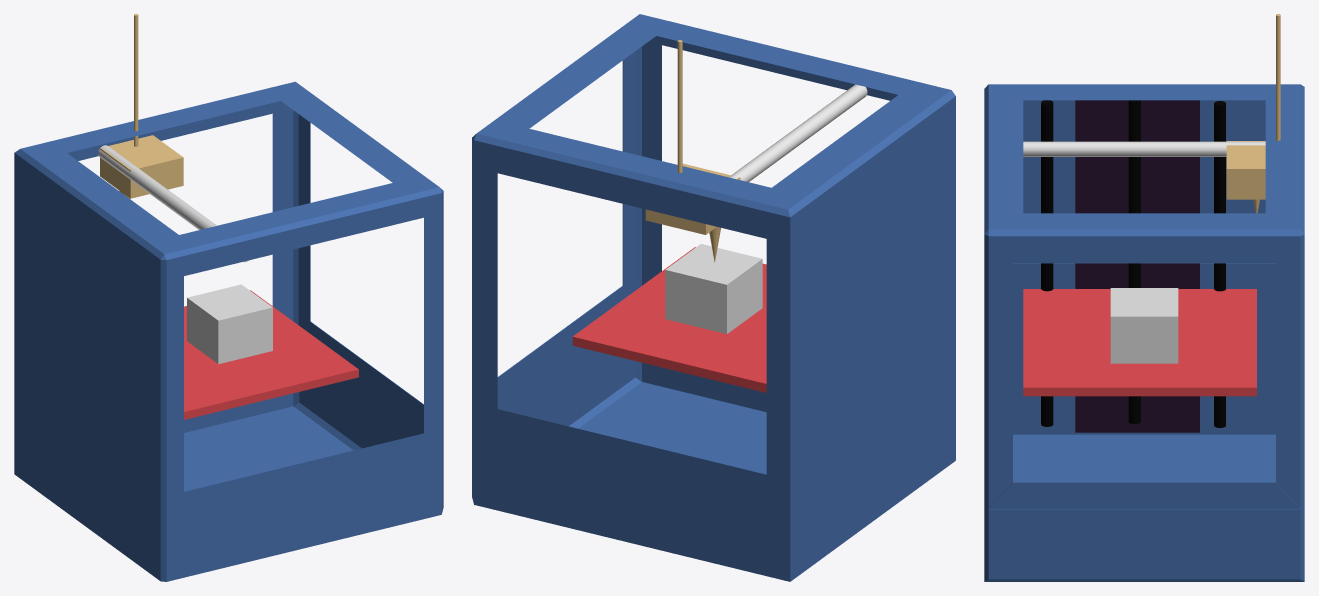
Rendered from 05.11редакт.fbx.
3 views of the same model, side by side, from view 1: azimuth 30°, elevation 25°; view 2: azimuth 150°, elevation 25°; view 3: azimuth 270°, elevation 25° (orthographic). The views are drawn at different scales.
Parts seen in each view (by area): view 1: Куб, Куб.001, Cube, Цилиндр.003, Цилиндр.005; view 2: Куб, Куб.001, Cube, Цилиндр.005, Цилиндр.003; view 3: Куб, Куб.001, Куб.002, Cube, Цилиндр.005, Цилиндр.003, Цилиндр, Цилиндр.001, Цилиндр.002.
Boxes of the visible parts, box(x1,y1,x2,y2) form: Куб: box(14, 81, 443, 581); Куб.001: box(184, 290, 358, 419); Cube: box(187, 284, 272, 364); Цилиндр.003: box(100, 14, 183, 198); Цилиндр.005: box(98, 145, 248, 262); Куб: box(472, 14, 955, 581); Куб.001: box(572, 247, 766, 392); Cube: box(665, 244, 762, 333); Цилиндр.005: box(729, 84, 867, 182); Цилиндр.003: box(645, 40, 740, 262); Куб: box(984, 84, 1304, 581); Куб.001: box(1023, 289, 1256, 396); Куб.002: box(1075, 100, 1199, 432); Cube: box(1110, 288, 1178, 363); Цилиндр.005: box(1023, 141, 1265, 156); Цилиндр.003: box(1226, 14, 1280, 213); Цилиндр: box(1041, 100, 1053, 426); Цилиндр.001: box(1128, 100, 1140, 424); Цилиндр.002: box(1214, 101, 1225, 427).
Bounding box in the file's own units: 1038 × 1586 × 943.
